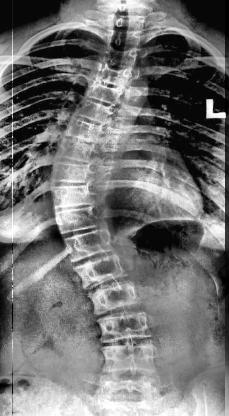Vertebrae: (74, 252, 132, 292), (87, 278, 144, 316), (97, 310, 154, 344), (98, 344, 158, 375), (63, 230, 117, 264), (49, 180, 93, 212), (54, 205, 98, 237), (92, 60, 134, 92), (48, 158, 94, 186), (63, 116, 103, 144), (96, 44, 139, 70), (54, 139, 96, 165), (86, 80, 124, 108), (75, 98, 113, 126), (100, 27, 144, 49)
